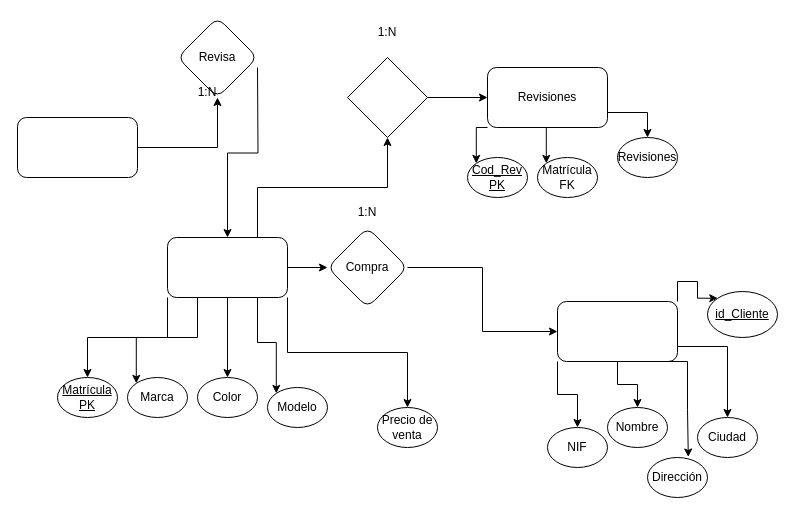
Some shapes in this 795 by 515 pixel diagram are drawn without their labels. The centre of each missing label's shape, as x and y in pixels:
"Cliente" goes at point (617, 331).
"Coches" goes at point (227, 267).
"Concesionario" goes at point (77, 147).
"Pasa" goes at point (387, 97).
